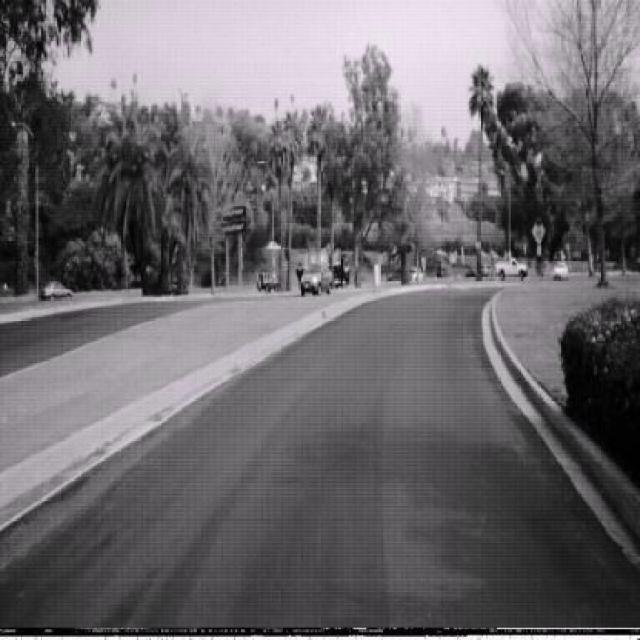stopAhead: (531, 215, 546, 247)
